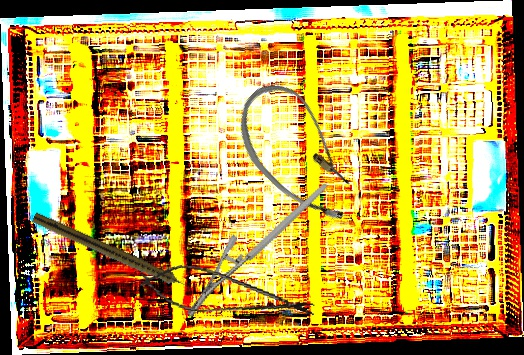Cannula: (217, 70, 383, 236)
Handpiece: (30, 211, 194, 296)
Micro Scissor: (136, 258, 319, 330)
Needle Holder: (160, 183, 355, 319)
